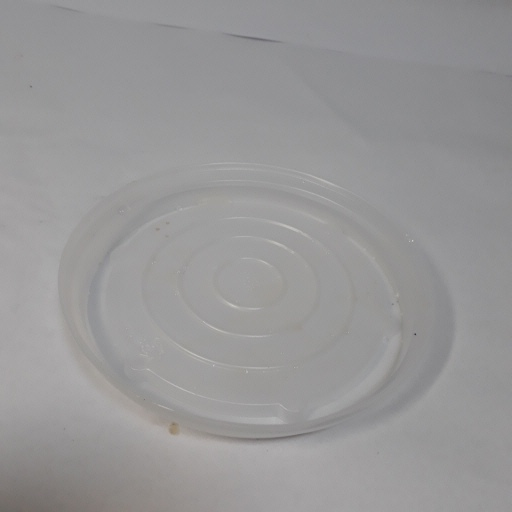Plastic_5: (58, 159, 443, 447)
